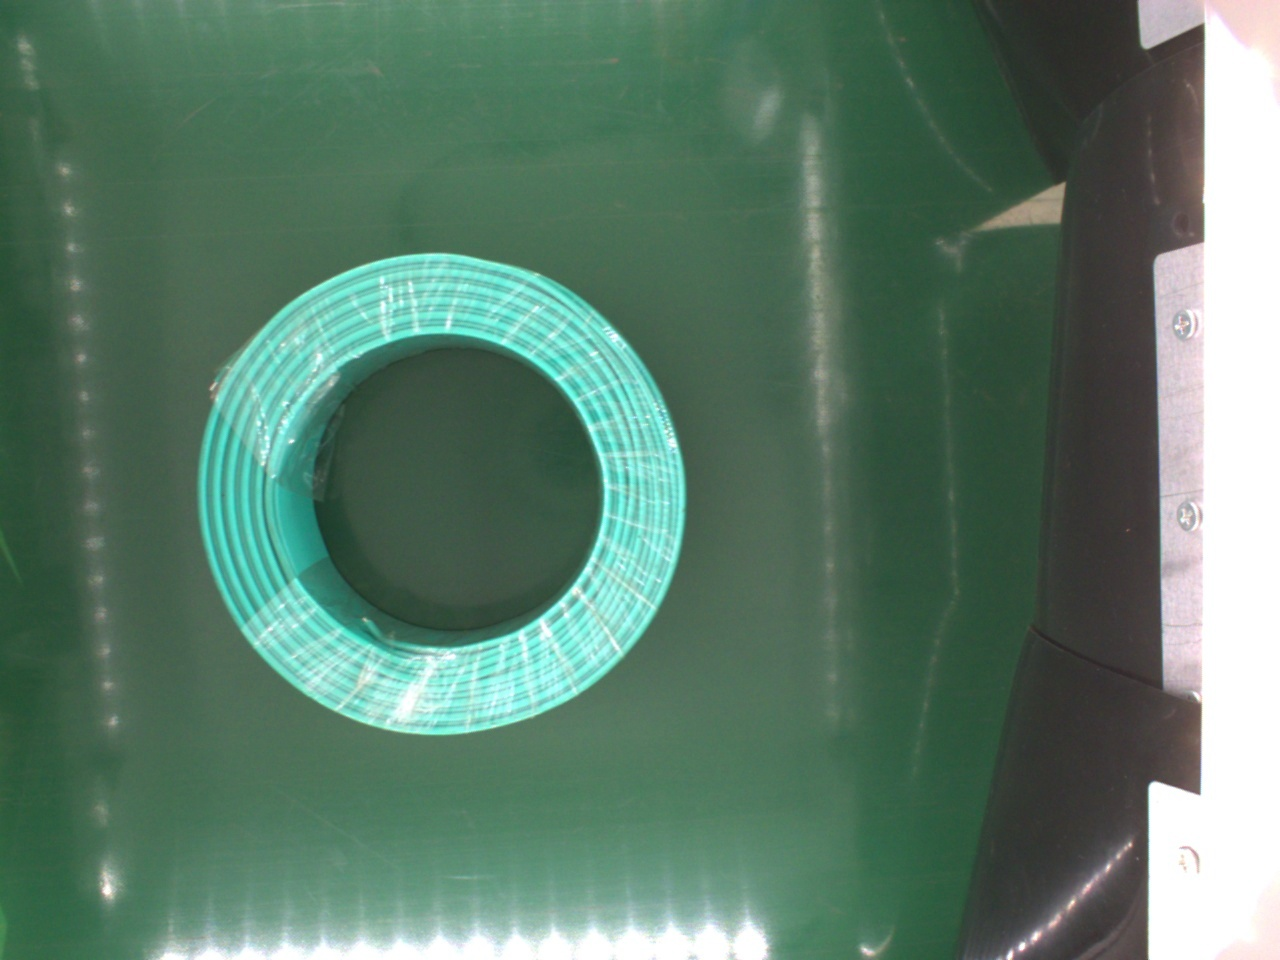green: (182, 250, 691, 741)
